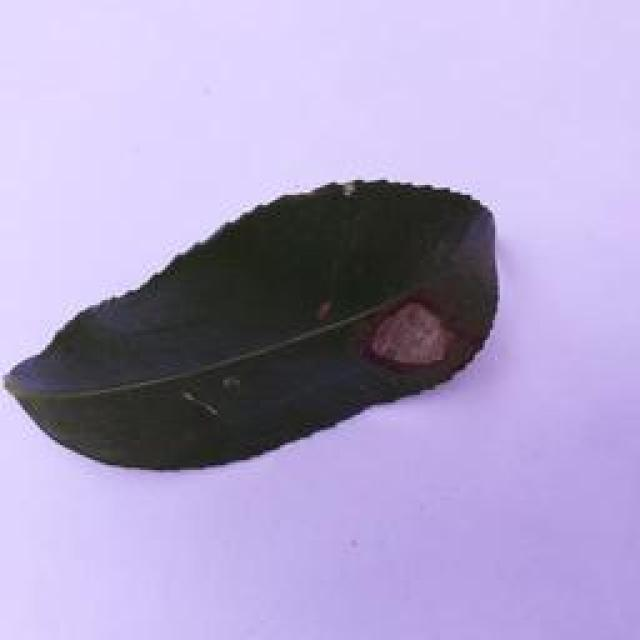Gray Blight: (0, 149, 519, 485)
